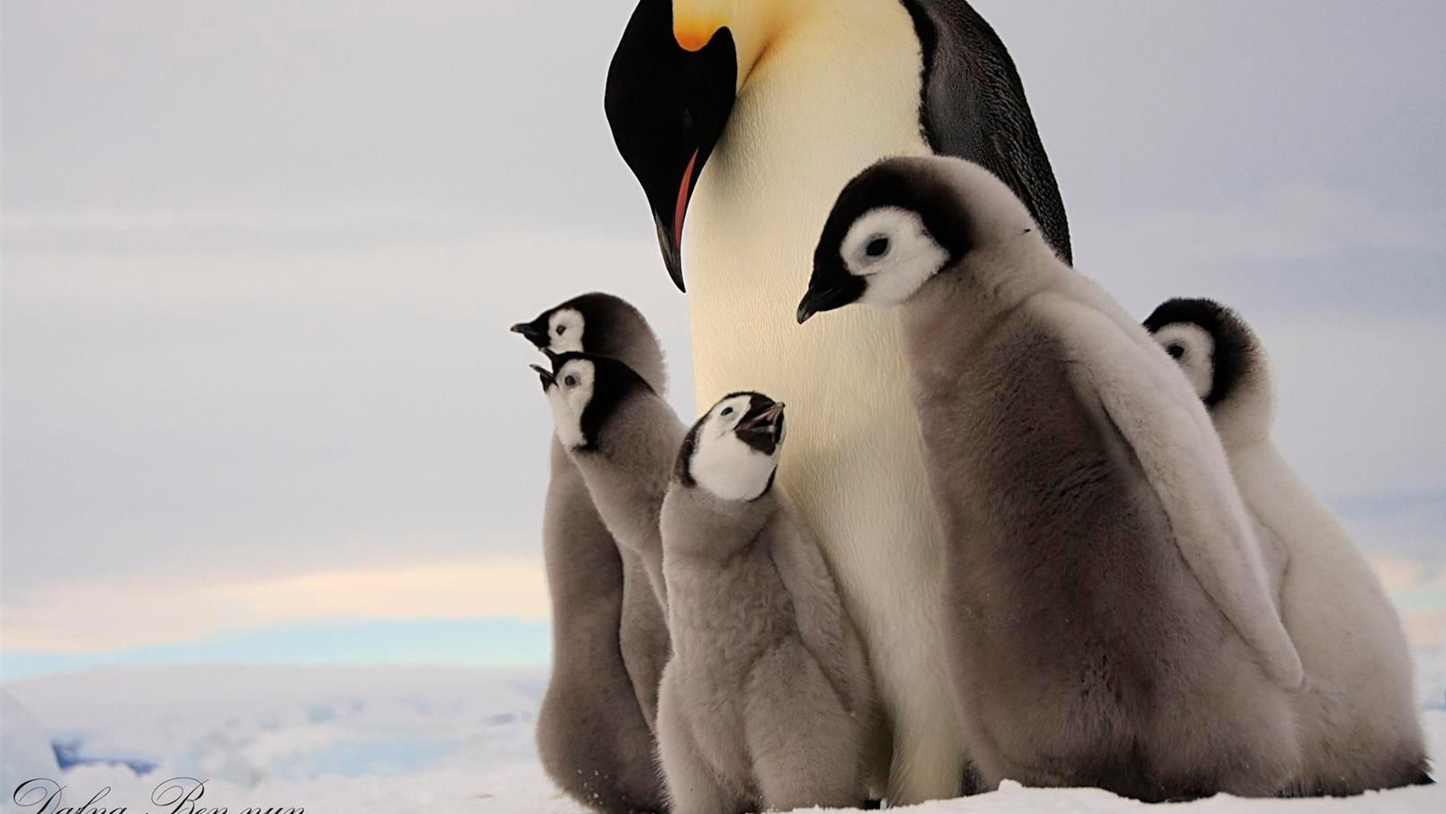Penguin: (604, 0, 1070, 810), (796, 158, 1302, 799), (1144, 299, 1429, 797), (658, 393, 878, 811), (537, 350, 686, 726), (535, 430, 670, 813), (514, 294, 667, 393)
